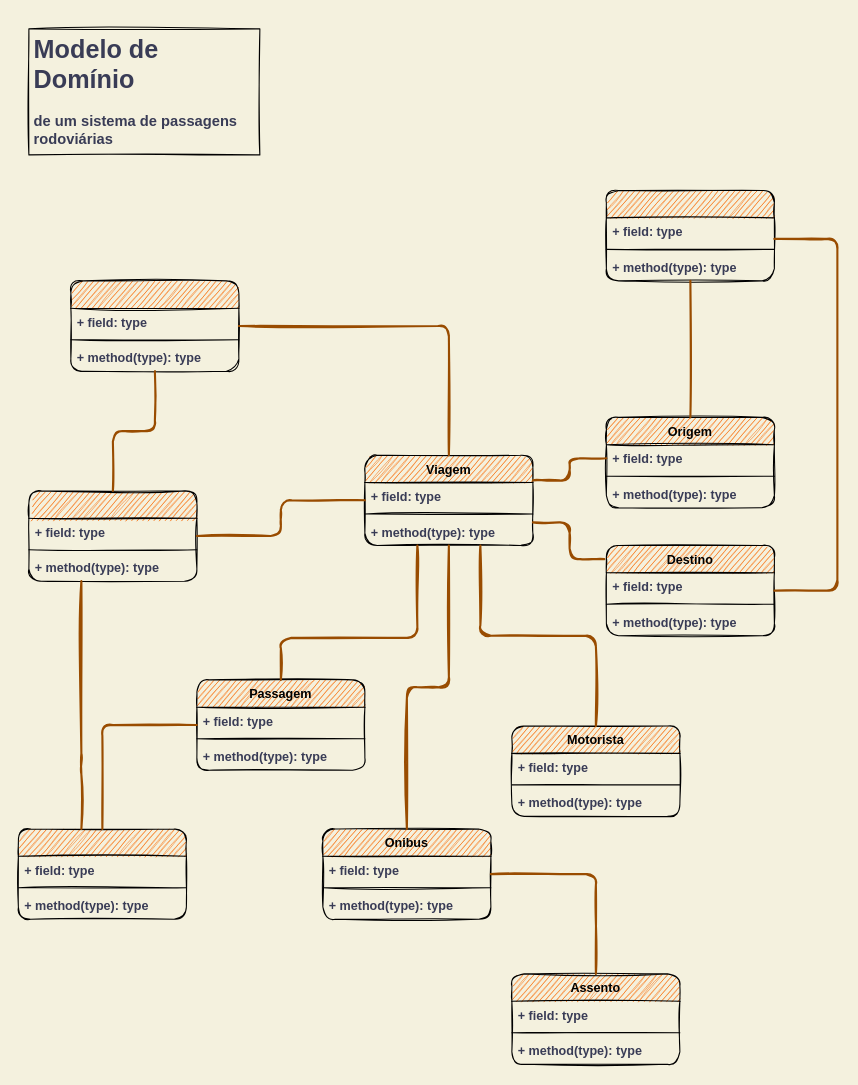
The diagram is 858 pixels wide and 1085 high, and some of its shapes have lost their labels. Each missing label, with the box of its shape:
Box: (70, 280, 239, 371)
Cidade: (605, 190, 774, 281)
Passageiro: (17, 828, 186, 919)
Rodoviaria: (28, 490, 197, 581)
